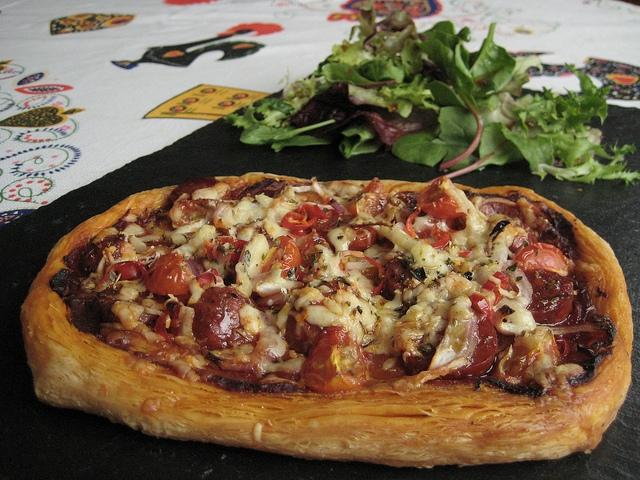tomato: (187, 285, 261, 351), (303, 326, 349, 390), (452, 312, 498, 376), (506, 330, 560, 377), (416, 176, 467, 220), (142, 252, 191, 296), (514, 243, 574, 276), (260, 235, 302, 278), (281, 203, 338, 231), (170, 198, 220, 228), (202, 238, 248, 264), (468, 294, 495, 325), (118, 262, 140, 281)
